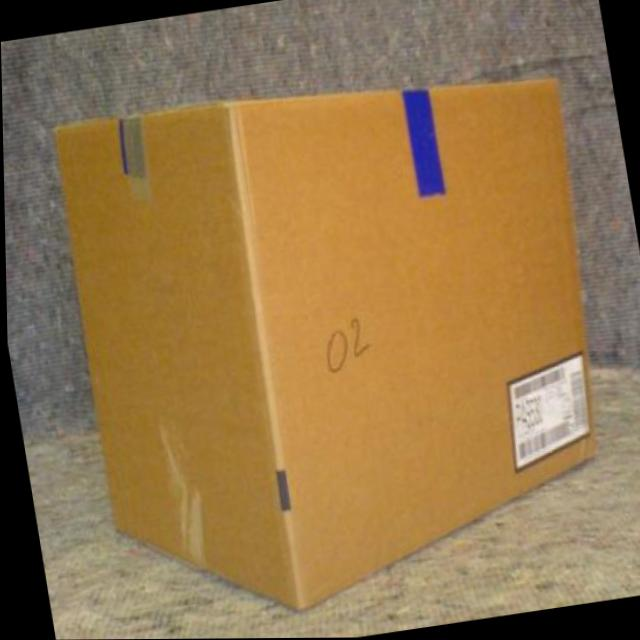box: (40, 39, 640, 640)
